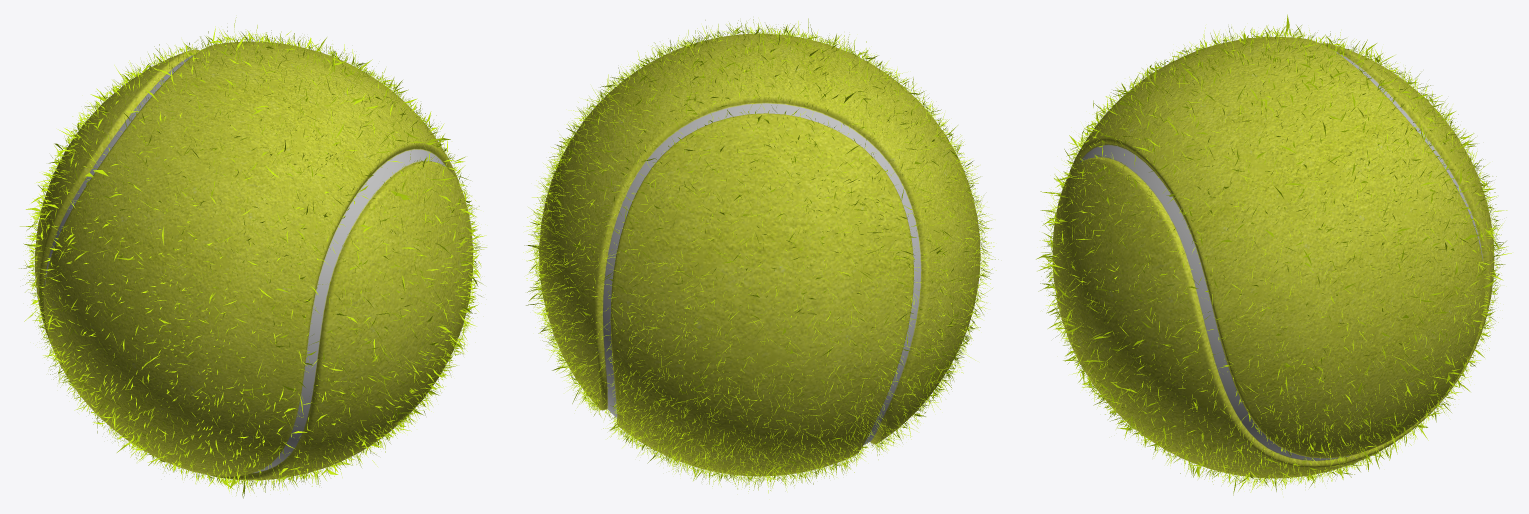
Rendered from Tennisball.glb.
The picture shows the model from 3 angles, left to right: view 1: azimuth 30°, elevation 25°; view 2: azimuth 150°, elevation 25°; view 3: azimuth 270°, elevation 25°; orthographic projection.
Visible parts, largest first — view 1: Tennis, HairTennis; view 2: Tennis, HairTennis; view 3: Tennis, HairTennis.
Boxes of the visible parts, x1=… form: Tennis: x1=35, y1=41, x2=473, y2=480; HairTennis: x1=19, y1=17, x2=486, y2=498; Tennis: x1=539, y1=33, x2=980, y2=476; HairTennis: x1=523, y1=18, x2=998, y2=493; Tennis: x1=1052, y1=36, x2=1494, y2=478; HairTennis: x1=1036, y1=14, x2=1511, y2=495.
Size of the model in its own units: 2.05 by 2.06 by 2.04.
Materials: 2 (1 with a texture image).
